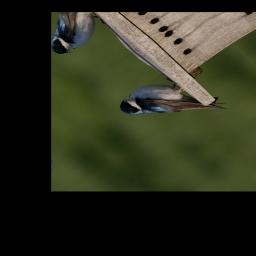Swallow: (112, 60, 234, 150)
